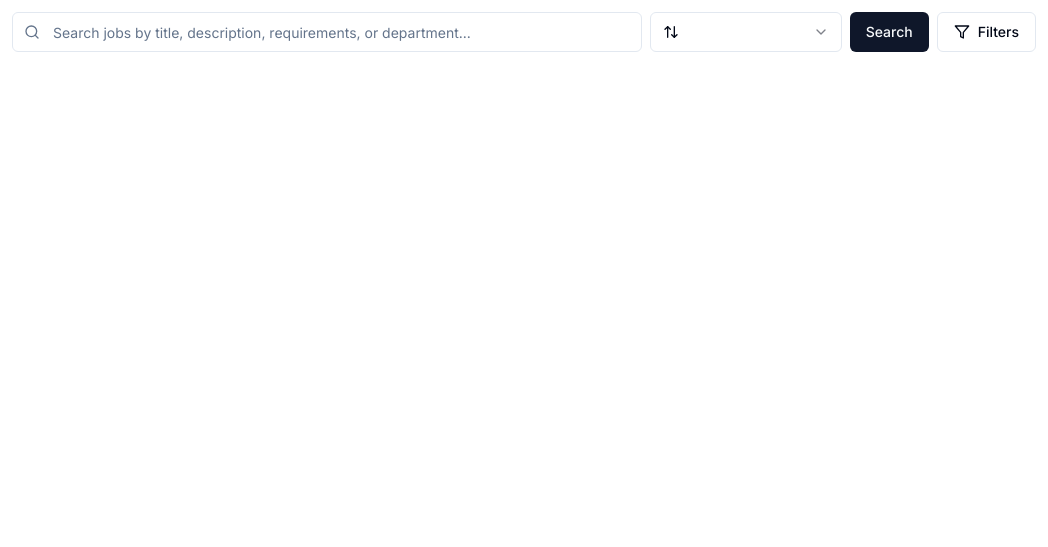
Test: JobSearchFilters › Close Filters Button › should close advanced filters panel when close button is clicked
Note: Open advanced filters
Click the button "Filters": (986, 32) x1=937 y1=12 x2=1036 y2=52
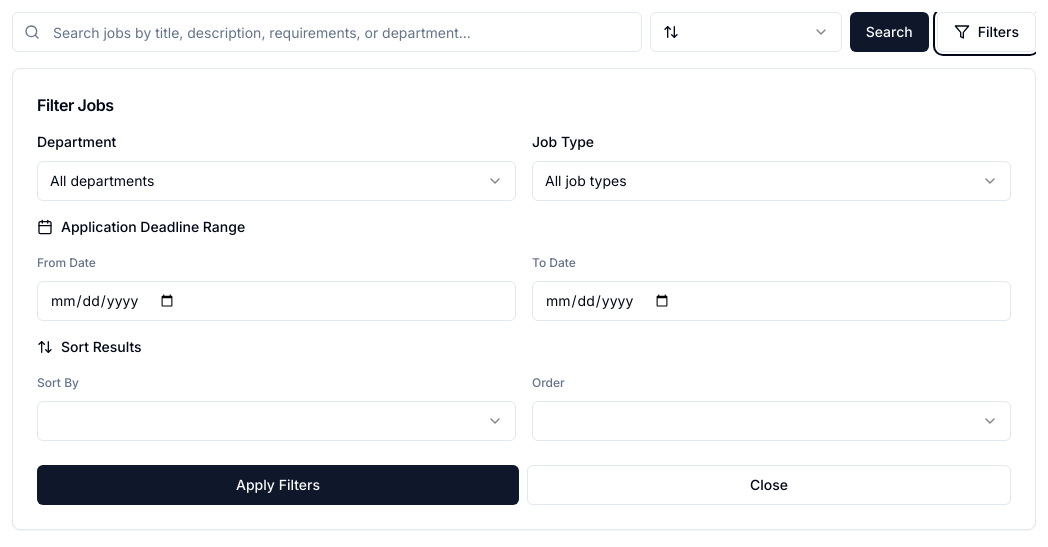
Now the heading "Filter Jobs" is shown, box x1=37 y1=93 x2=114 y2=117
Note: Close filters
Click the button "Close": (769, 485) x1=527 y1=465 x2=1011 y2=505
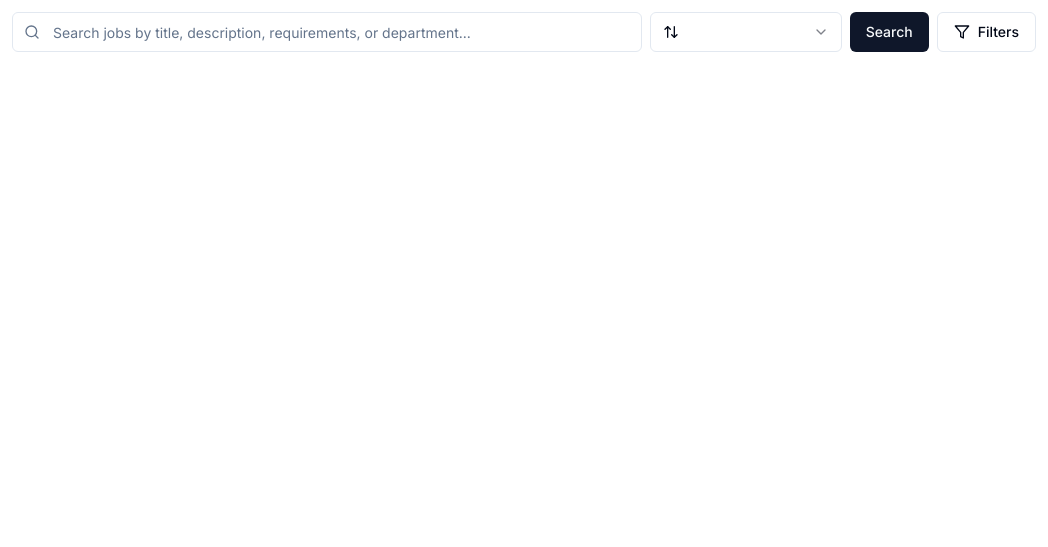
Now the heading "Filter Jobs" is gone
